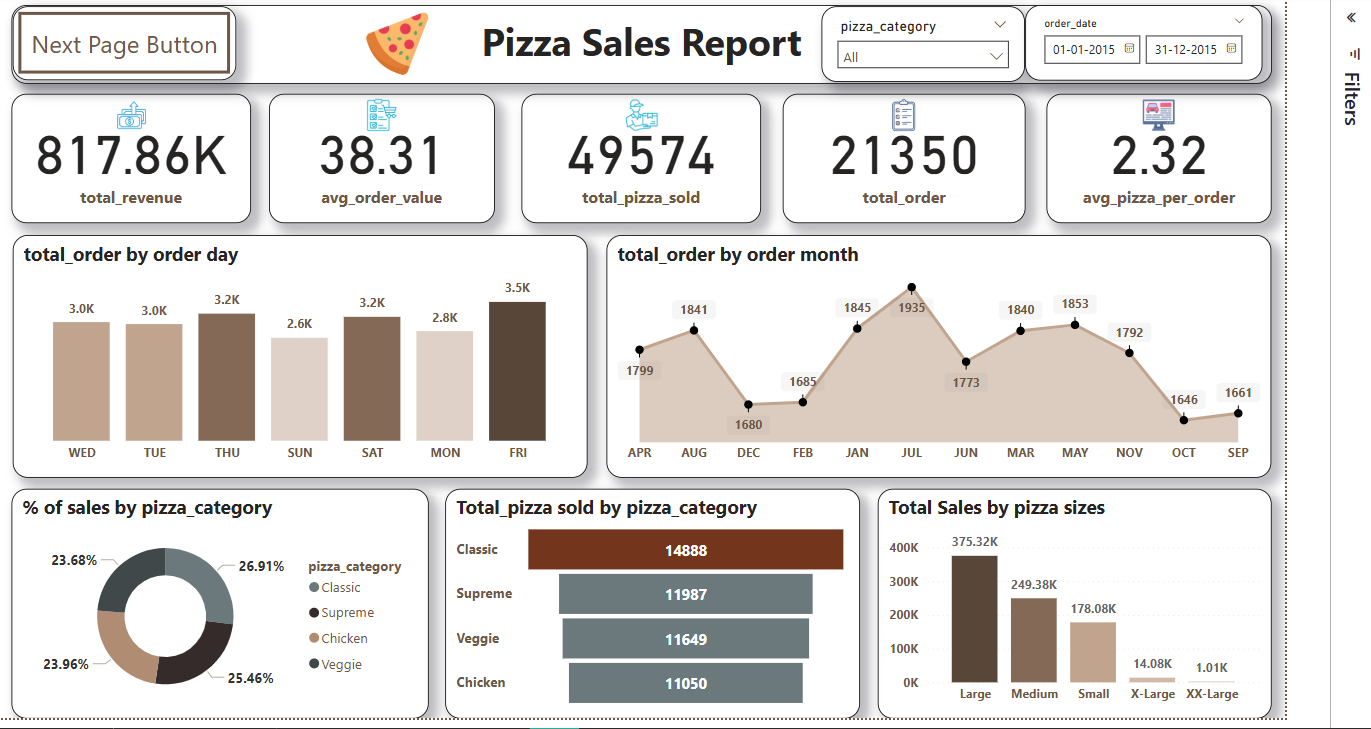

The page's visual inventory and layout, read from the dashboard file:
{"tool":"powerbi","page":{"name":"main_dashboard","canvas":[1280,720],"ordinal":0},"visuals":[{"type":"card","fields":{"Values":["pizza_sales.total_revenue"]},"box":[12.3,98.8,238.8,129],"z":0},{"type":"card","fields":{"Values":["pizza_sales.total_order"]},"box":[779.4,98.8,241.5,129],"z":1000},{"type":"card","fields":{"Values":["pizza_sales.avg_order_value"]},"box":[269,98.8,225,129],"z":2000},{"type":"card","fields":{"Values":["pizza_sales.avg_pizza_per_order"]},"box":[1042.9,98.8,223.7,129],"z":3000},{"type":"card","fields":{"Values":["pizza_sales.total_pizza_sold"]},"box":[520.1,98.8,238.8,129],"z":4000},{"type":"textbox","box":[12.3,9.6,1254.2,78.2],"z":5000},{"type":"image","box":[316,11.2,160.5,74.6],"z":6000},{"type":"image","box":[12.3,98.8,238.8,42.5],"z":7000},{"type":"image","box":[269,98.8,225,42.5],"z":8000},{"type":"image","box":[520.1,98.8,238.8,42.5],"z":9000},{"type":"image","box":[779.4,98.8,241.5,42.5],"z":10000},{"type":"image","box":[1042.9,98.8,223.7,42.5],"z":11000},{"type":"columnChart","fields":{"Category":["pizza_sales.order day"],"Y":["pizza_sales.total_order"]},"box":[13.7,238.8,572.2,241.3],"z":12000},{"type":"areaChart","fields":{"Y":["pizza_sales.total_order"],"Category":["pizza_sales.order month"]},"box":[604.6,238.8,661.8,241.3],"z":13000},{"type":"donutChart","title":"% of sales by pizza_category","fields":{"Category":["pizza_sales.pizza_category"],"Y":["pizza_sales.total_revenue"]},"box":[12.4,491.4,415.5,228.9],"z":14000},{"type":"columnChart","title":"Total Sales by pizza sizes","fields":{"Category":["pizza_sales.pizza_size"],"Y":["pizza_sales.total_revenue"]},"box":[874.5,491.4,391.8,228.9],"z":15000},{"type":"funnel","title":"Total_pizza sold by pizza_category","fields":{"Category":["pizza_sales.pizza_category"],"Y":["pizza_sales.total_pizza_sold"]},"box":[444.1,491.4,413,228.9],"z":16000},{"type":"slicer","fields":{"Values":["pizza_sales.pizza_category"]},"box":[818.8,11.2,202.5,75],"z":17000},{"type":"slicer","fields":{"Values":["pizza_sales.order_date"]},"box":[1021.2,10,236.2,75],"z":18000},{"type":"actionButton","box":[13.8,11.2,228.8,75],"z":18001}]}

Visuals, with their boxes on the page's 1280x720 design canvas (x1, y1, x2, y2). These are canvas units, not pixel positions in the 1371x729 screenshot, which may show the page scaled, cropped or inside an application window:
card - pizza_sales.total_revenue: 12/99/251/228
card - pizza_sales.total_order: 779/99/1021/228
card - pizza_sales.avg_order_value: 269/99/494/228
card - pizza_sales.avg_pizza_per_order: 1043/99/1267/228
card - pizza_sales.total_pizza_sold: 520/99/759/228
textbox: 12/10/1266/88
image: 316/11/476/86
image: 12/99/251/141
image: 269/99/494/141
image: 520/99/759/141
image: 779/99/1021/141
image: 1043/99/1267/141
columnChart - pizza_sales.order day x pizza_sales.total_order: 14/239/586/480
areaChart - pizza_sales.total_order x pizza_sales.order month: 605/239/1266/480
"% of sales by pizza_category" donutChart: 12/491/428/720
"Total Sales by pizza sizes" columnChart: 874/491/1266/720
"Total_pizza sold by pizza_category" funnel: 444/491/857/720
slicer - pizza_sales.pizza_category: 819/11/1021/86
slicer - pizza_sales.order_date: 1021/10/1257/85
actionButton: 14/11/243/86
